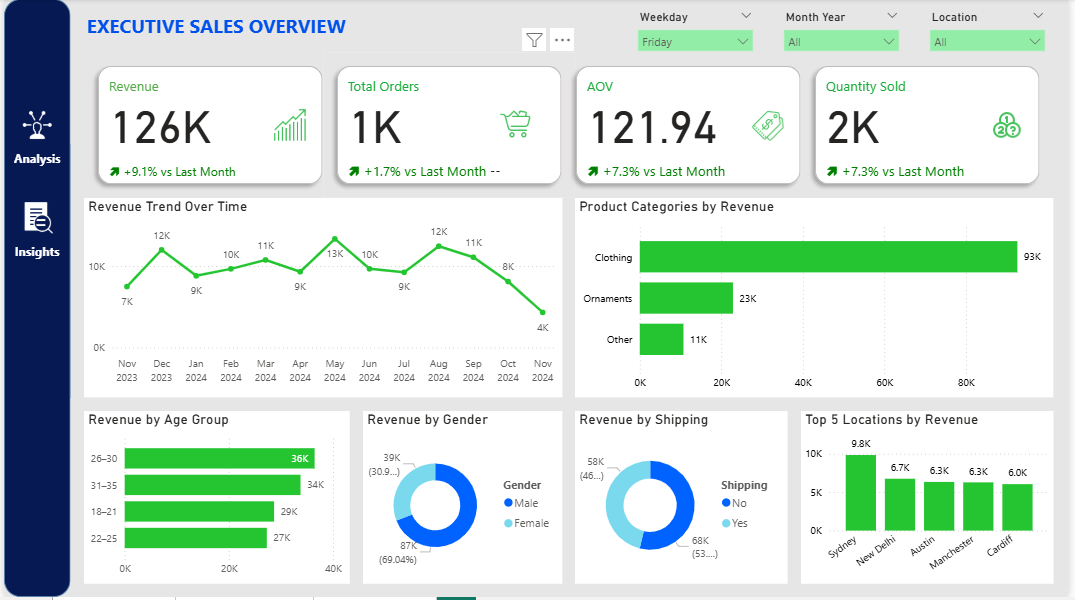

The page's visual inventory and layout, read from the dashboard file:
{"tool":"powerbi","page":{"name":"Sales Overview","canvas":[1280,720],"ordinal":0},"visuals":[{"type":"cardVisual","title":"nv]","fields":{"Data":["sales_projects merch_table.Total Revenue"]},"box":[96,64,304,176],"z":0},{"type":"shape","box":[0,0,80,720],"z":1000},{"type":"cardVisual","fields":{"Data":["sales_projects merch_table.Total Orders"]},"box":[384,64,304,176],"z":2000},{"type":"cardVisual","fields":{"Data":["sales_projects merch_table.AOV"]},"box":[672,64,304,176],"z":3000},{"type":"cardVisual","fields":{"Data":["sales_projects merch_table.Quantity sold"]},"box":[960,64,304,176],"z":4000},{"type":"image","box":[320,128,48,48],"z":5000},{"type":"shape","box":[80,0,352,64],"z":6000},{"type":"slicer","fields":{"Values":["DateTable.Month Year"]},"box":[928,8,160,64],"z":7000},{"type":"slicer","fields":{"Values":["DateTable.Weekday"]},"box":[752,8,160,64],"z":8000},{"type":"lineChart","title":"Revenue Trend Over Time","fields":{"Y":["sales_projects merch_table.Total Revenue"],"Category":["DateTable.Month Year"]},"box":[96,240,576,240],"z":9000},{"type":"barChart","title":"Product Categories by Revenue","fields":{"Category":["sales_projects merch_table.product_category"],"Y":["sales_projects merch_table.Total Revenue"]},"box":[688,240,576,240],"z":10000},{"type":"slicer","fields":{"Values":["sales_projects merch_table.order_location"]},"box":[1104,8,160,64],"z":11000},{"type":"barChart","fields":{"Category":["sales_projects merch_table.Age Group"],"Y":["sales_projects merch_table.Total Revenue"]},"box":[96,496,320,208],"z":12000},{"type":"donutChart","fields":{"Category":["sales_projects merch_table.buyer_gender"],"Y":["sales_projects merch_table.Total Revenue"]},"box":[432,496,240,208],"z":13000},{"type":"donutChart","fields":{"Category":["sales_projects merch_table.international_shipping"],"Y":["sales_projects merch_table.Total Revenue"]},"box":[688,496,256,208],"z":14000},{"type":"columnChart","title":"Top 5 Locations by Revenue","fields":{"Category":["sales_projects merch_table.order_location"],"Y":["sales_projects merch_table.Total Revenue"]},"box":[960,496,304,208],"z":15000},{"type":"image","box":[592,128,48,48],"z":17000},{"type":"image","box":[896,128,48,48],"z":18000},{"type":"image","box":[1184,128,48,48],"z":19000},{"type":"image","box":[0,240,80,48],"z":19001},{"type":"image","box":[0,128,80,48],"z":19002},{"type":"shape","box":[0,176,80,32],"z":19003},{"type":"shape","box":[0,288,80,32],"z":19004}]}

Visuals, with their boxes on the page's 1280x720 design canvas (x1, y1, x2, y2). These are canvas units, not pixel positions in the 1075x600 screenshot, which may show the page scaled, cropped or inside an application window:
"nv]" cardVisual: bbox=[96, 64, 400, 240]
shape: bbox=[0, 0, 80, 720]
cardVisual - sales_projects merch_table.Total Orders: bbox=[384, 64, 688, 240]
cardVisual - sales_projects merch_table.AOV: bbox=[672, 64, 976, 240]
cardVisual - sales_projects merch_table.Quantity sold: bbox=[960, 64, 1264, 240]
image: bbox=[320, 128, 368, 176]
shape: bbox=[80, 0, 432, 64]
slicer - DateTable.Month Year: bbox=[928, 8, 1088, 72]
slicer - DateTable.Weekday: bbox=[752, 8, 912, 72]
"Revenue Trend Over Time" lineChart: bbox=[96, 240, 672, 480]
"Product Categories by Revenue" barChart: bbox=[688, 240, 1264, 480]
slicer - sales_projects merch_table.order_location: bbox=[1104, 8, 1264, 72]
barChart - sales_projects merch_table.Age Group x sales_projects merch_table.Total Revenue: bbox=[96, 496, 416, 704]
donutChart - sales_projects merch_table.buyer_gender x sales_projects merch_table.Total Revenue: bbox=[432, 496, 672, 704]
donutChart - sales_projects merch_table.international_shipping x sales_projects merch_table.Total Revenue: bbox=[688, 496, 944, 704]
"Top 5 Locations by Revenue" columnChart: bbox=[960, 496, 1264, 704]
image: bbox=[592, 128, 640, 176]
image: bbox=[896, 128, 944, 176]
image: bbox=[1184, 128, 1232, 176]
image: bbox=[0, 240, 80, 288]
image: bbox=[0, 128, 80, 176]
shape: bbox=[0, 176, 80, 208]
shape: bbox=[0, 288, 80, 320]
